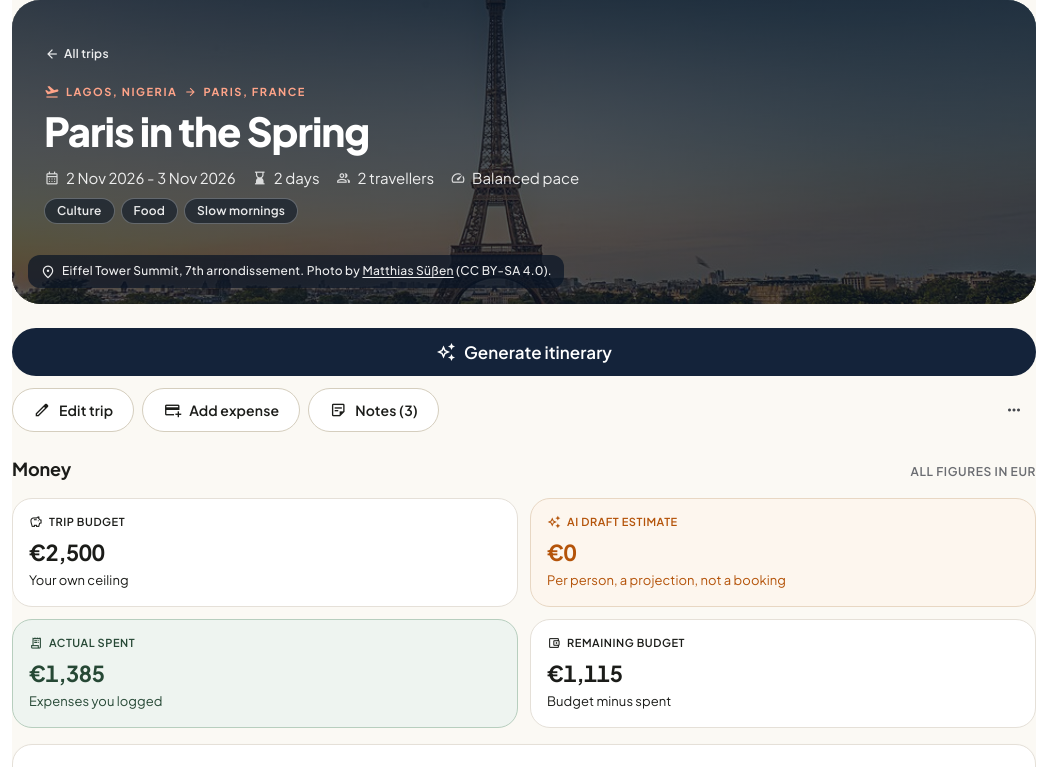
it: TripOverviewPage › the action hierarchy › makes generating the draft the primary action while there is no plan
The width and height of the screenshot is (1048, 767).
Expected: the button "Generate itinerary" is shown, [12, 328, 1036, 376]
Click the button named "More actions for this trip": (1014, 410) [992, 388, 1036, 432]
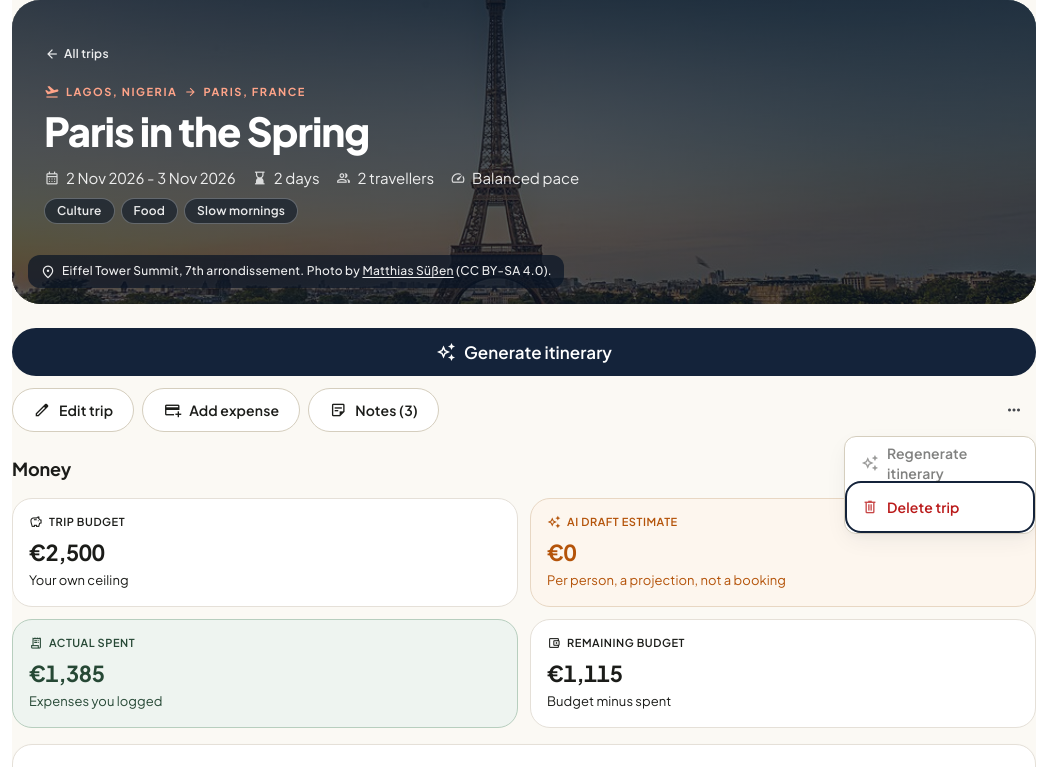
Expected: the menu item "Regenerate itinerary" is disabled, [849, 441, 1031, 485]
